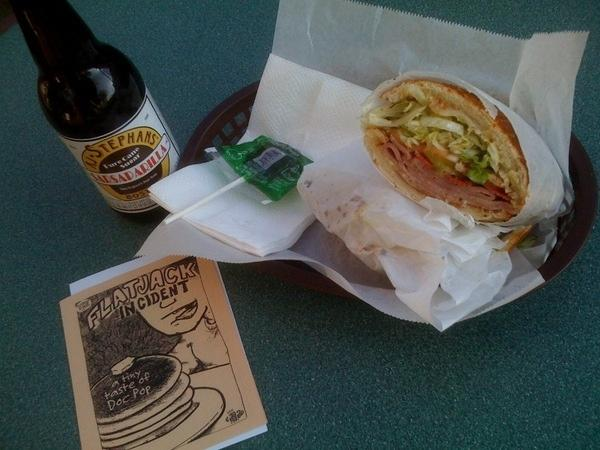lettuce: (409, 115, 464, 136), (380, 98, 414, 118), (427, 152, 455, 174), (464, 124, 486, 152), (467, 167, 494, 185), (406, 84, 426, 104), (470, 155, 490, 174), (431, 133, 448, 152), (408, 126, 428, 138), (399, 122, 413, 133), (459, 136, 471, 148)
